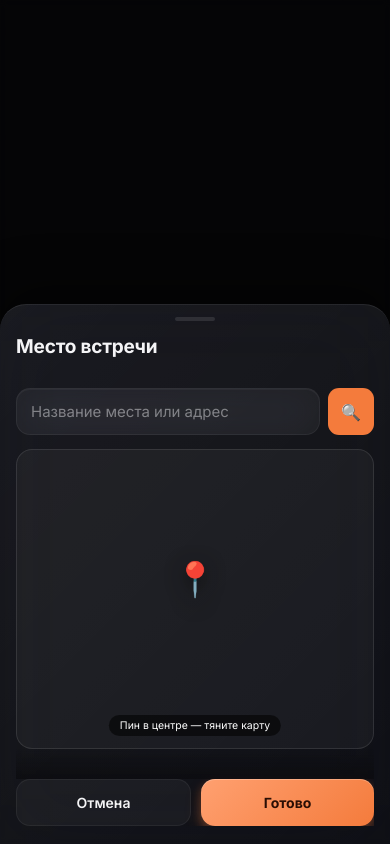
it: LocationPickerSheet — поиск места по подсказкам (venue-search, вариант C) › пустая выдача: шторки нет, есть строка «ничего не нашли», карта на месте (AC-3)
Expected: the button named "Найти адрес" is enabled, [328,388,374,435]
Type "Блаблабла Пыщь" into the field with placeholder "Название места или адрес" at x=168, y=412, box [16,388,320,435]
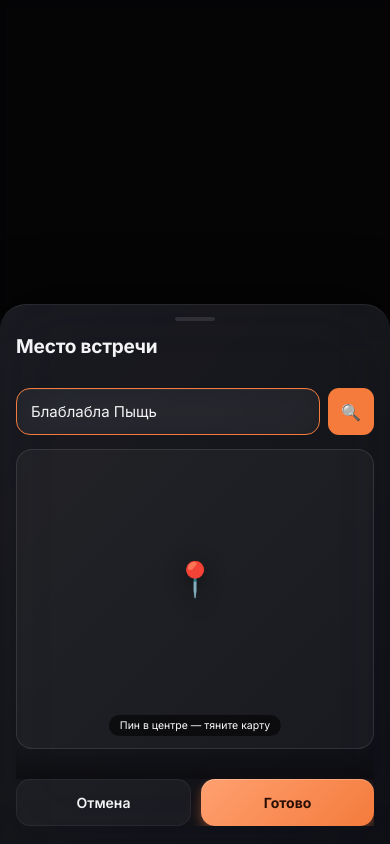
Click the button named "Найти адрес" at x=351, y=412, box [328,388,374,435]
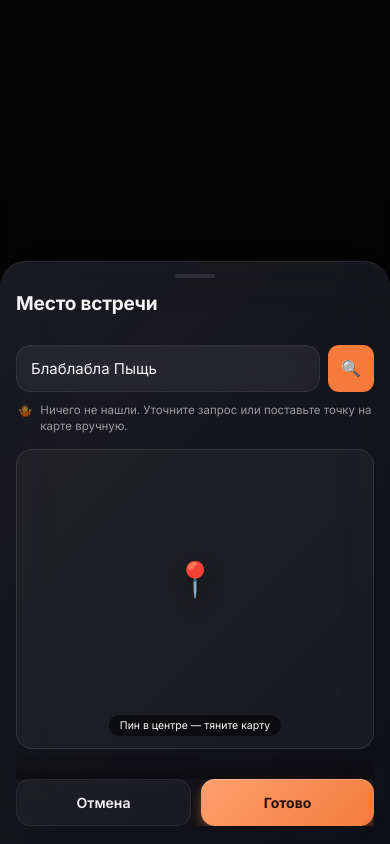
Expected: the element with class "rd-geo-map-canvas" is shown, [17,450,373,748]
Expected: the text "Ничего не нашли" is shown, [40,403,372,433]
